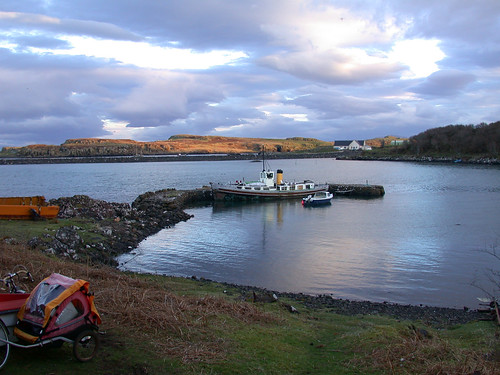boat: (214, 165, 334, 207)
building: (331, 133, 374, 153)
sea: (1, 148, 493, 306)
sky: (1, 1, 494, 137)
